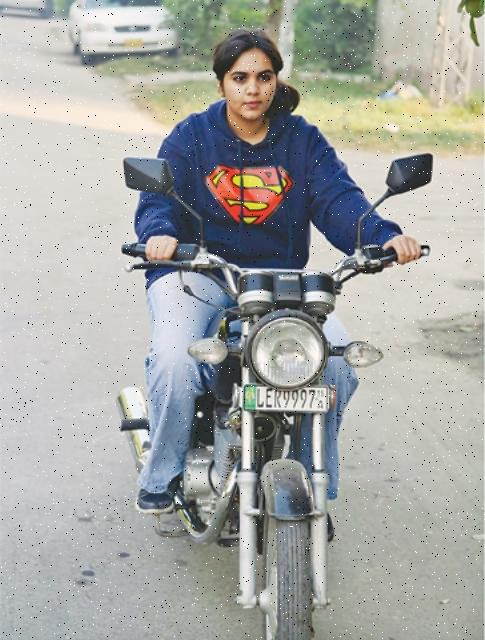Without Helmet: (213, 29, 286, 117)
